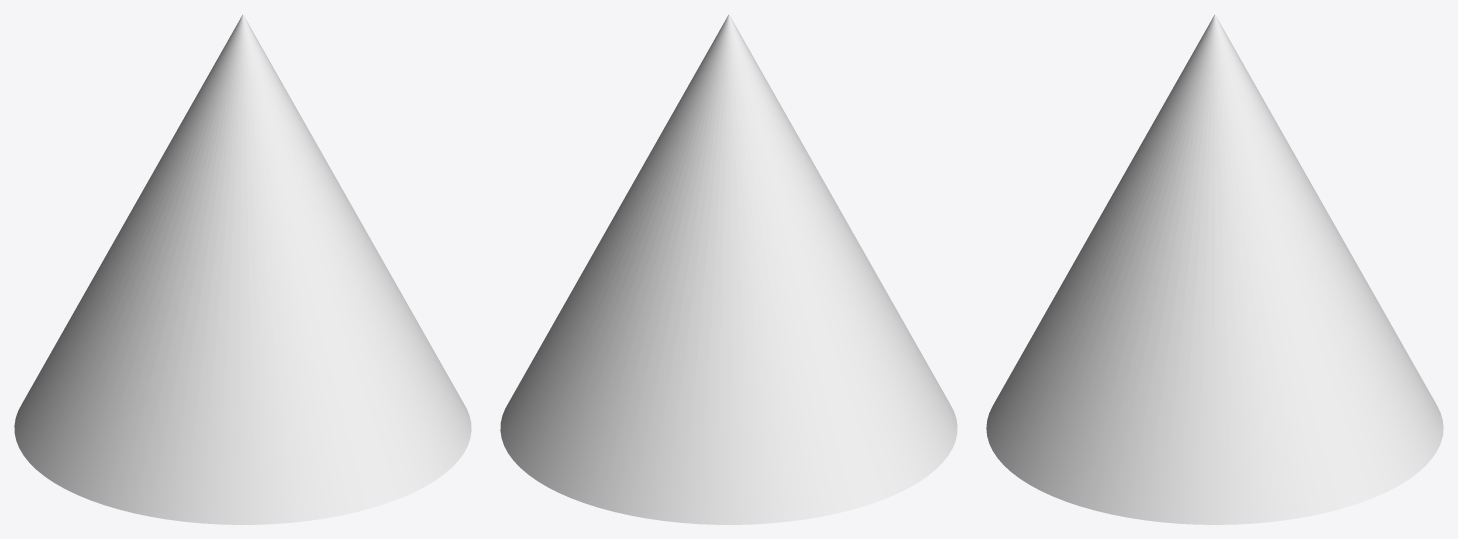
3 renders of one model, left to right at view 1: azimuth 30°, elevation 25°; view 2: azimuth 150°, elevation 25°; view 3: azimuth 270°, elevation 25°, orthographic.
Parts seen in each view (by area): view 1: root; view 2: root; view 3: root.
Boxes of the visible parts, x1,y1,x2,y2 form: root: (14, 14, 471, 524); root: (500, 14, 957, 524); root: (986, 14, 1443, 524).
Bounding box in the file's own units: 0.2 × 0.2 × 0.2.
1 material, 1 textured.
